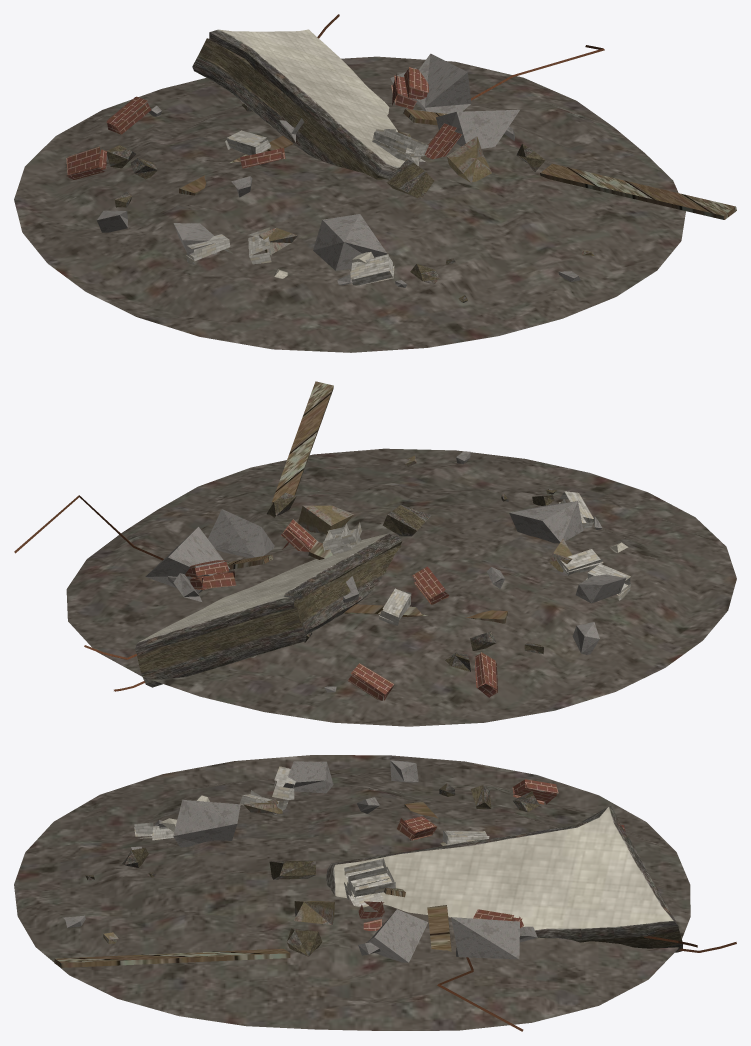
File: rubble_5.glb
3 views of the same model, one above another, from view 1: azimuth 30°, elevation 25°; view 2: azimuth 150°, elevation 25°; view 3: azimuth 270°, elevation 25° (orthographic). The views are drawn at different scales.
Visible parts, largest first — view 1: rubble_5; view 2: rubble_5; view 3: rubble_5.
Boxes of the visible parts, x1,y1,x2,y2 form: rubble_5: (14,14,736,352); rubble_5: (14,381,736,726); rubble_5: (14,755,736,1031).
Size of the model in its own units: 4.26 by 0.832 by 4.39.
1 material, 1 textured.
